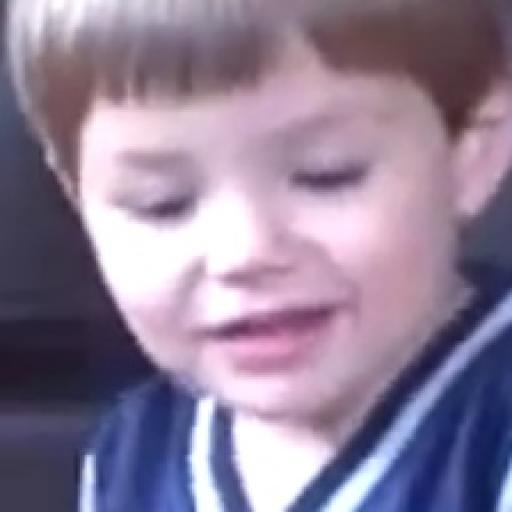Autism: (56, 18, 512, 458)
